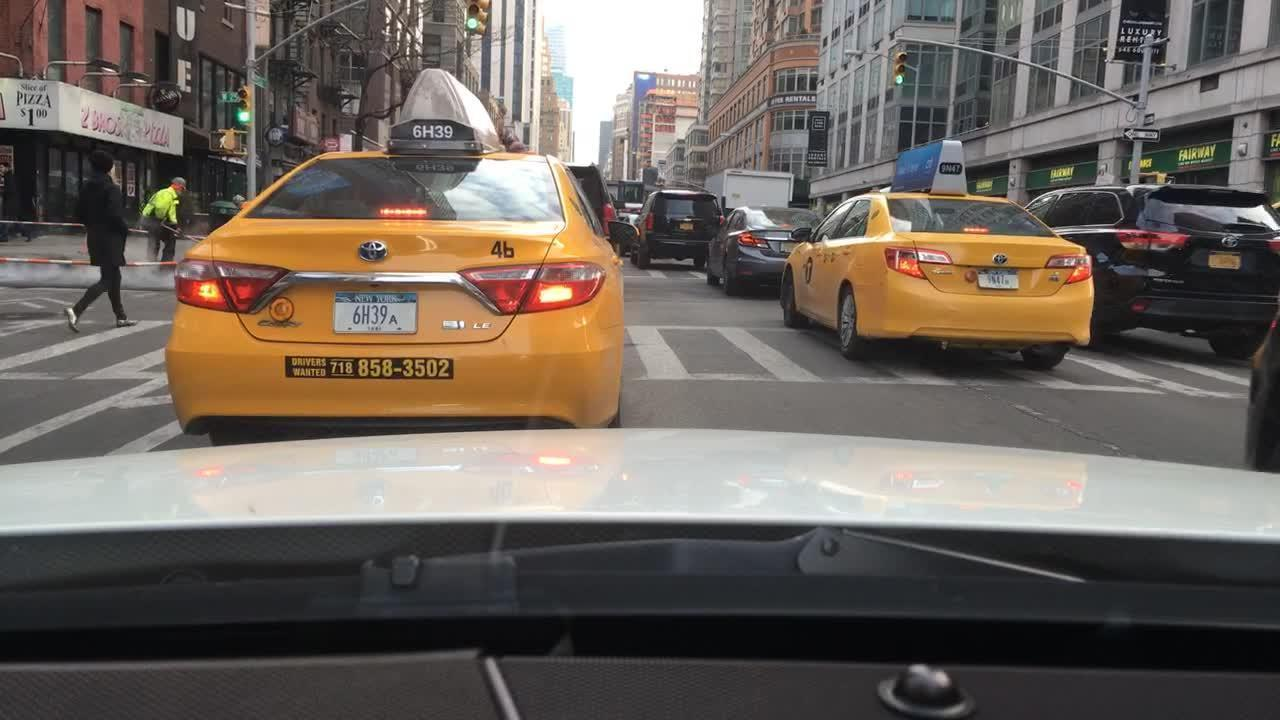Toyota: (343, 233, 399, 273), (1213, 233, 1245, 252), (990, 251, 1018, 268)
